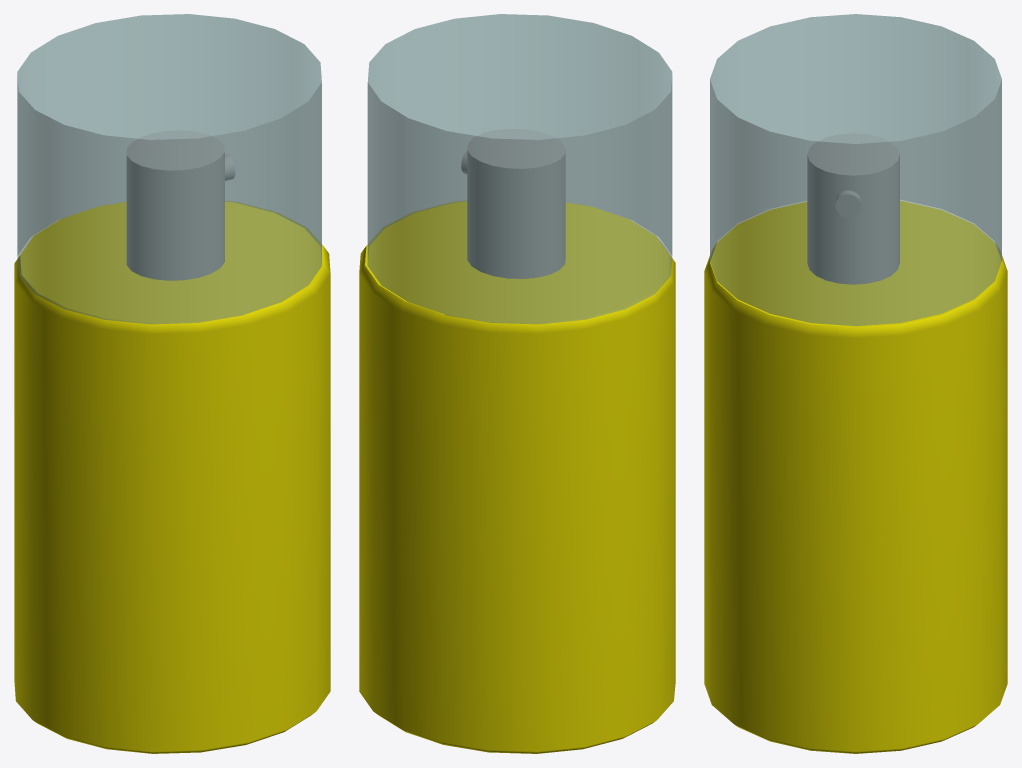
Rendered from Paint_can_02.fbx.
3 views of the same model, side by side, from view 1: azimuth 30°, elevation 25°; view 2: azimuth 150°, elevation 25°; view 3: azimuth 270°, elevation 25° (orthographic).
Parts seen in each view (by area): view 1: pCylinder1, pasted__pCylinder1, pCylinder2; view 2: pCylinder1, pasted__pCylinder1, pCylinder2; view 3: pCylinder1, pasted__pCylinder1, pCylinder2, pCylinder3.
Boxes of the visible parts, x1,y1,x2,y2 form: pCylinder1: (14,201,330,753); pasted__pCylinder1: (17,14,321,324); pCylinder2: (126,130,224,280); pCylinder1: (359,201,675,753); pasted__pCylinder1: (367,14,672,324); pCylinder2: (467,128,565,278); pCylinder1: (704,200,1007,753); pasted__pCylinder1: (710,14,1001,326); pCylinder2: (807,133,899,284); pCylinder3: (835,190,861,217).
Size of the model in its own units: 1.93 by 4.05 by 1.83.
